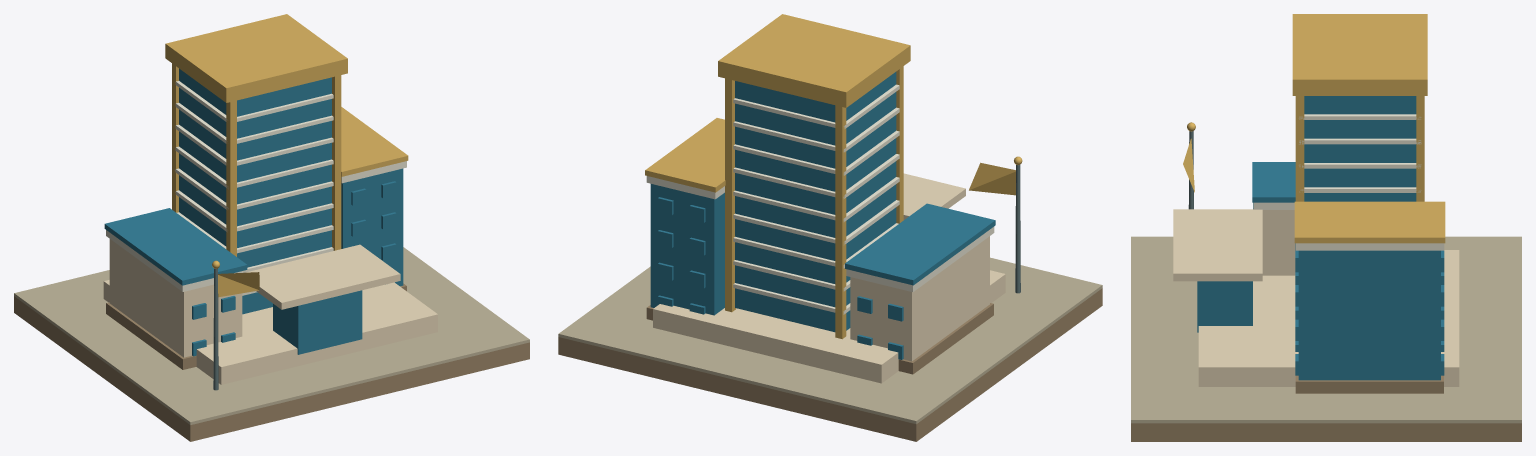
File: club-headquarters-lv3.glb
The picture shows the model from 3 angles, left to right: view 1: azimuth 30°, elevation 25°; view 2: azimuth 150°, elevation 25°; view 3: azimuth 270°, elevation 25°; orthographic projection. The views are drawn at different scales.
Parts seen in each view (by area): view 1: foundation_paving, office_tower_glass, tower_crown_gold, foundation_stoneDark, headquarters_plinth_cream, office_wing_cream, floor_bands_white, office_wing_roof_glass, entrance_canopy_cream, tower_mullions_gold, secondary_tower_glass, entrance_lobby_glass (+7 smaller); view 2: office_tower_glass, foundation_paving, tower_crown_gold, foundation_stoneDark, headquarters_plinth_cream, office_wing_cream, floor_bands_white, secondary_tower_glass, office_wing_roof_glass, tower_mullions_gold, secondary_tower_roof_gold, secondary_tower_windows_glass (+7 smaller); view 3: foundation_paving, secondary_tower_glass, tower_crown_gold, headquarters_plinth_cream, office_tower_glass, foundation_stoneDark, entrance_canopy_cream, secondary_tower_roof_gold, floor_bands_white, entrance_lobby_glass, office_wing_cream, secondary_tower_stoneDark (+5 smaller).
Boxes of the visible parts, <box> form: foundation_paving: <box>14,247,529,424</box>; office_tower_glass: <box>179,68,331,314</box>; tower_crown_gold: <box>165,14,347,102</box>; foundation_stoneDark: <box>14,296,529,441</box>; headquarters_plinth_cream: <box>103,280,437,384</box>; office_wing_cream: <box>109,239,242,357</box>; floor_bands_white: <box>175,81,333,295</box>; office_wing_roof_glass: <box>104,208,247,285</box>; entrance_canopy_cream: <box>246,244,400,309</box>; tower_mullions_gold: <box>172,63,341,256</box>; secondary_tower_glass: <box>341,168,403,286</box>; entrance_lobby_glass: <box>273,290,362,354</box>; office_tower_glass: <box>735,72,896,332</box>; foundation_paving: <box>558,257,1102,424</box>; tower_crown_gold: <box>718,14,910,107</box>; foundation_stoneDark: <box>558,288,1102,441</box>; headquarters_plinth_cream: <box>653,270,1005,383</box>; office_wing_cream: <box>850,236,989,361</box>; floor_bands_white: <box>733,84,899,314</box>; secondary_tower_glass: <box>650,184,724,315</box>; office_wing_roof_glass: <box>845,203,995,285</box>; tower_mullions_gold: <box>725,66,903,339</box>; secondary_tower_roof_gold: <box>645,118,725,192</box>; secondary_tower_windows_glass: <box>657,197,705,314</box>; foundation_paving: <box>1131,236,1521,423</box>; secondary_tower_glass: <box>1298,250,1440,380</box>; tower_crown_gold: <box>1292,14,1427,95</box>; headquarters_plinth_cream: <box>1198,250,1459,386</box>; office_tower_glass: <box>1304,96,1416,201</box>; foundation_stoneDark: <box>1131,423,1521,441</box>; entrance_canopy_cream: <box>1173,209,1262,281</box>; secondary_tower_roof_gold: <box>1294,201,1445,243</box>; floor_bands_white: <box>1299,114,1421,192</box>; entrance_lobby_glass: <box>1197,281,1252,332</box>; office_wing_cream: <box>1262,210,1295,275</box>; secondary_tower_stoneDark: <box>1295,375,1443,393</box>.
Bounding box in the file's own units: 1 × 0.7708 × 0.9.
